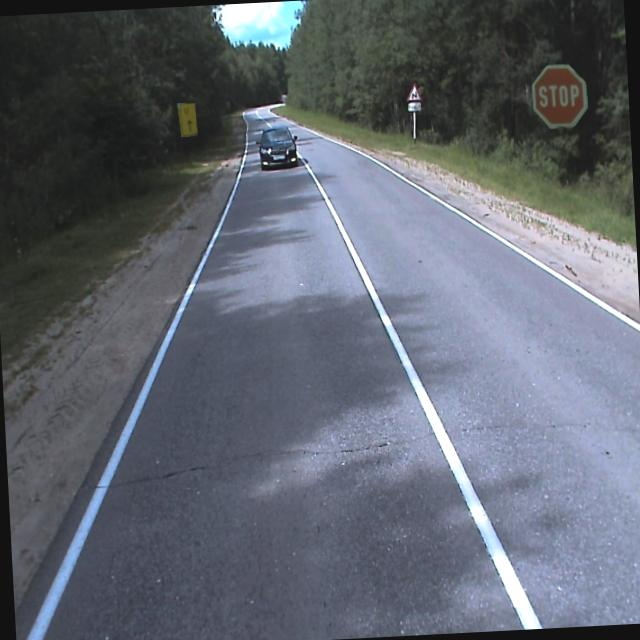road: (15, 106, 640, 640)
